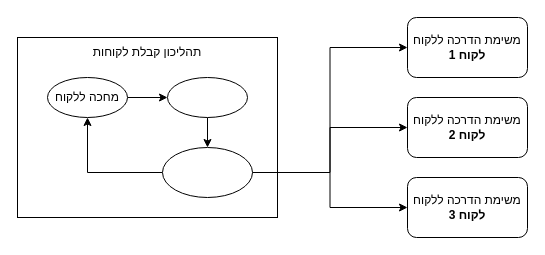
Image size: 545x255. Some labels were removed from this diagram. The box of each missing label's shape, as (x1, y1, x2, y2) in pixels:
העברה למשימת הדרכה: (162, 146, 252, 198)
קבלת לקוח חדש: (166, 76, 248, 118)
